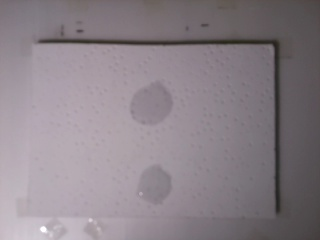Water_detected: (130, 92, 165, 119), (148, 173, 170, 194)
